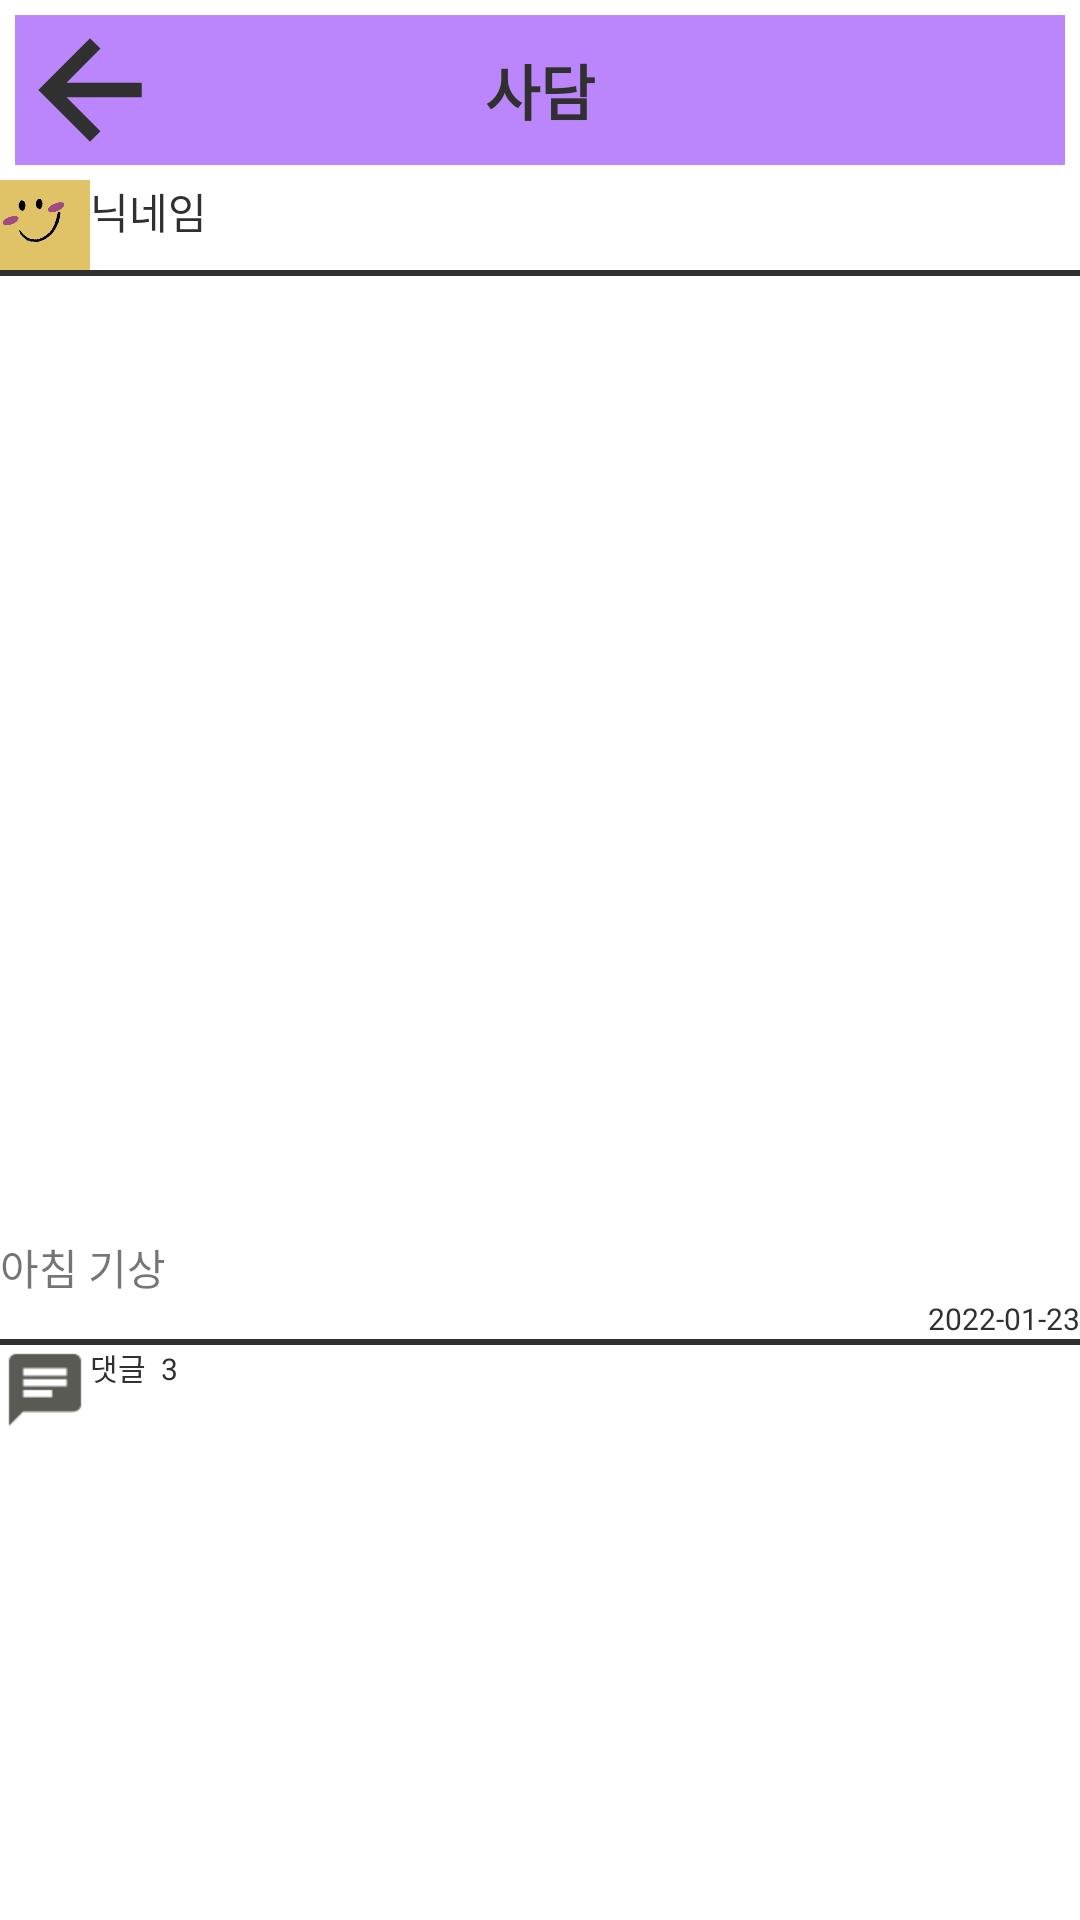

Locate icon controls on the screen. Image size 1080×1920, boxes as box=[x1, y1, x2, y2].
arrow back: box=[15, 15, 165, 165]
blush: box=[0, 180, 90, 270]
chat: box=[8, 1353, 82, 1426]
